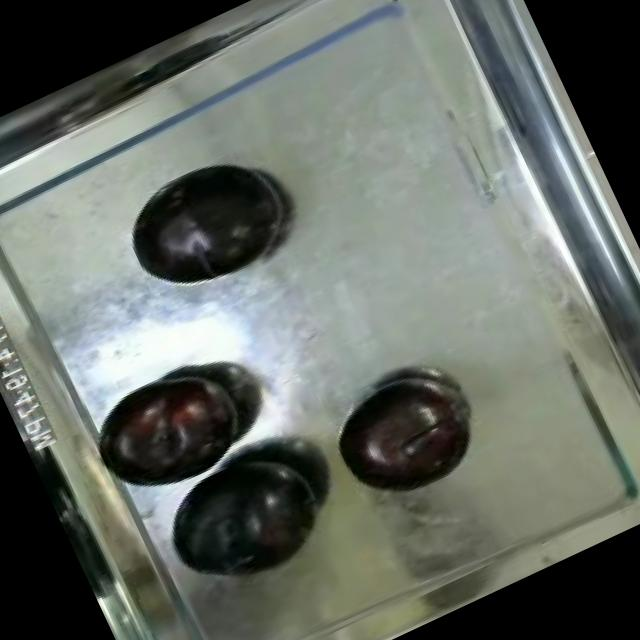Fruit: (138, 422, 344, 609), (106, 134, 310, 316), (82, 346, 263, 507), (318, 354, 488, 516)
